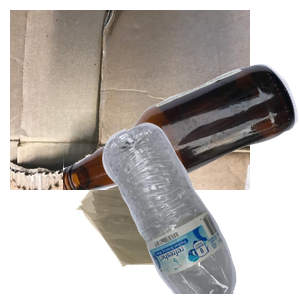cardboard: (10, 10, 250, 190)
glass: (63, 62, 300, 242)
plastic: (100, 120, 300, 300)
trash: (74, 148, 273, 300)
